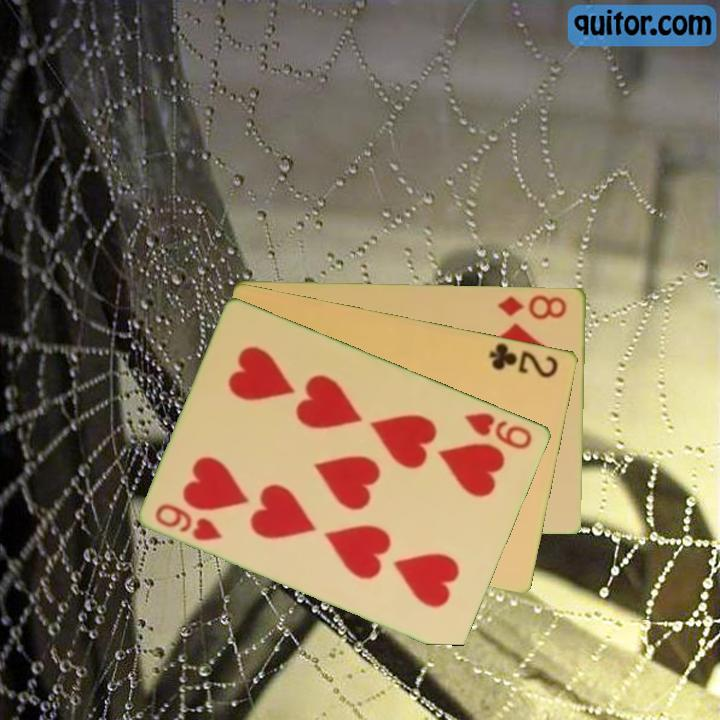2c: (485, 339, 562, 381)
8d: (495, 291, 570, 322)
9h: (152, 499, 226, 544), (462, 408, 536, 452)
